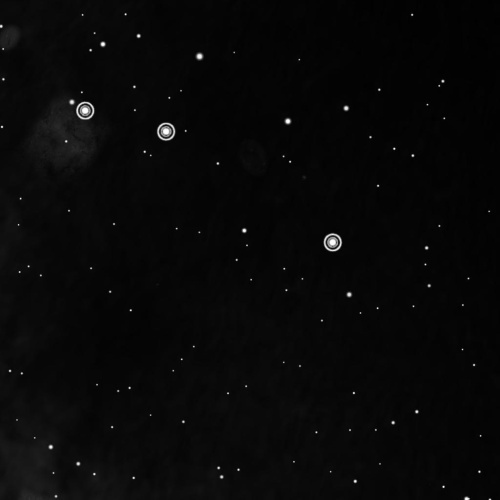vulpecula: (72, 98, 347, 257)
